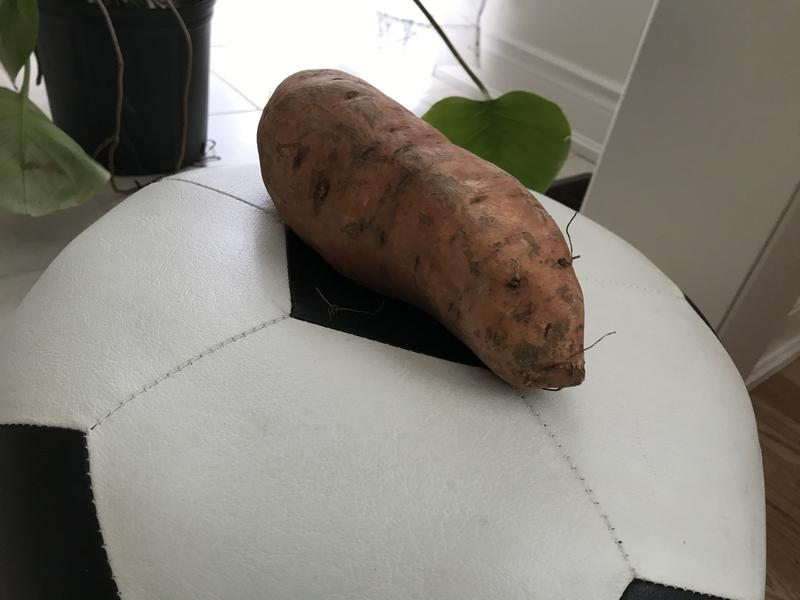sweet_potato: (247, 53, 601, 410)
